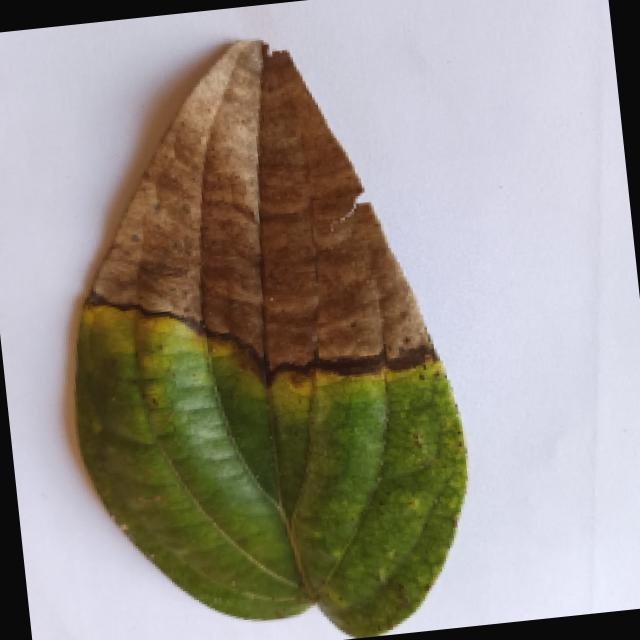footrot: (6, 6, 545, 640)
